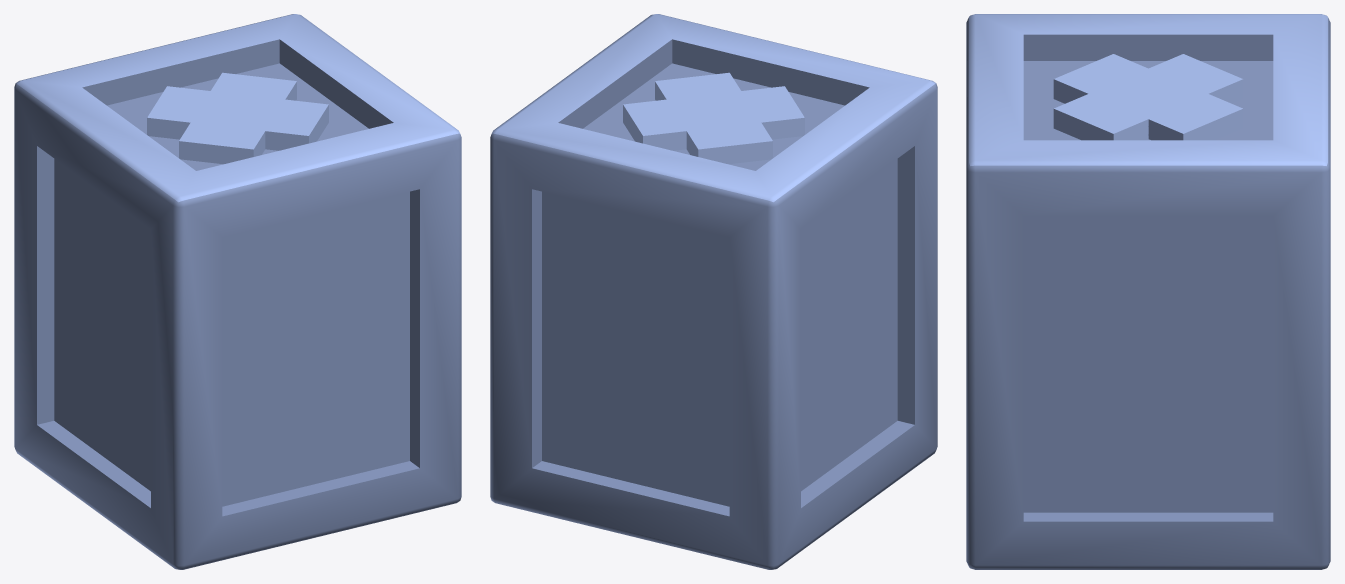
Rendered from Wall_Tile_X.fbx.
The picture shows the model from 3 angles, left to right: view 1: azimuth 30°, elevation 25°; view 2: azimuth 150°, elevation 25°; view 3: azimuth 270°, elevation 25°; orthographic projection. The views are drawn at different scales.
Visible parts, largest first — view 1: Wall_Tile_X; view 2: Wall_Tile_X; view 3: Wall_Tile_X.
Part boxes in pixels (<box>): Wall_Tile_X: <box>14,14,461,569</box>; Wall_Tile_X: <box>490,14,937,569</box>; Wall_Tile_X: <box>966,14,1330,569</box>.
Size of the model in its own units: 2 by 2 by 2.48.
